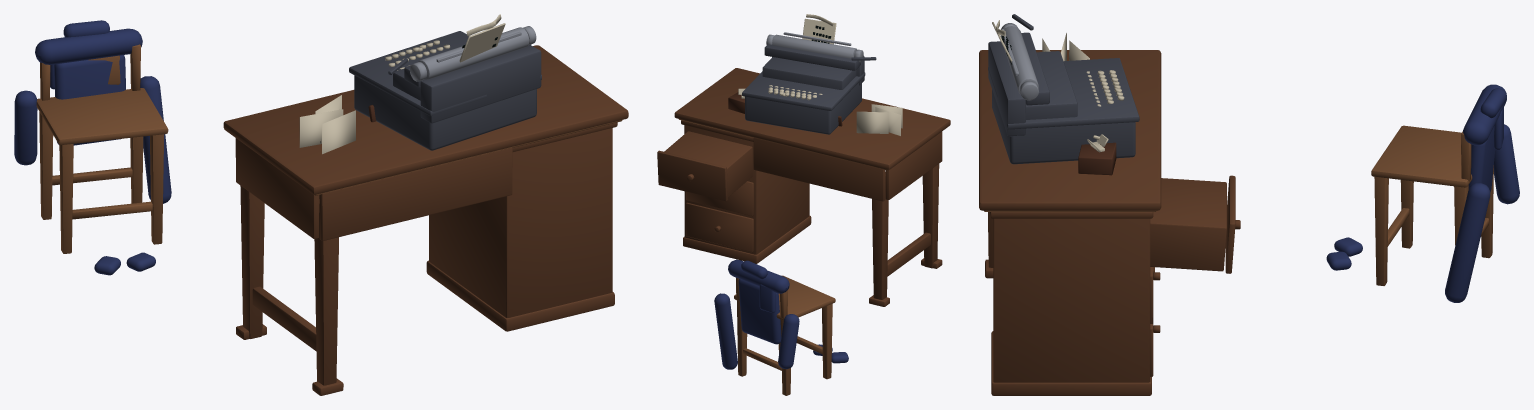
The model's file is DollsDesk.glb.
3 renders of one model, left to right at view 1: azimuth 30°, elevation 25°; view 2: azimuth 150°, elevation 25°; view 3: azimuth 270°, elevation 25°, orthographic. The views are drawn at different scales.
Parts seen in each view (by area): view 1: DollsDesk; view 2: DollsDesk; view 3: DollsDesk.
Boxes of the visible parts, x1,y1,x2,y2 form: DollsDesk: [14, 14, 628, 395]; DollsDesk: [657, 14, 950, 395]; DollsDesk: [979, 14, 1519, 395].
Bounding box in the file's own units: 1.31 × 1.15 × 1.72.
